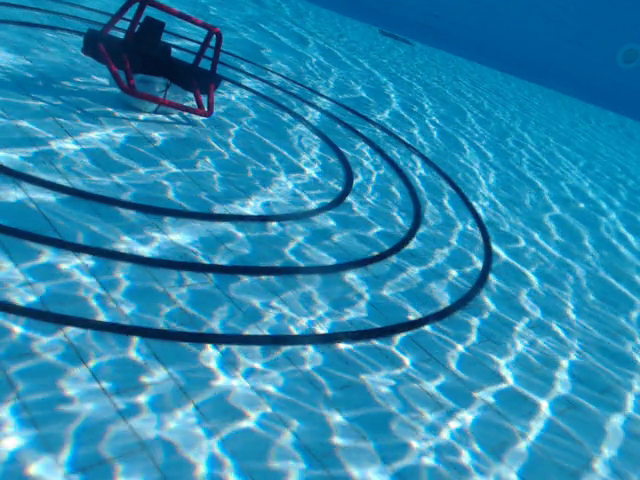submarine: (79, 1, 225, 119)
